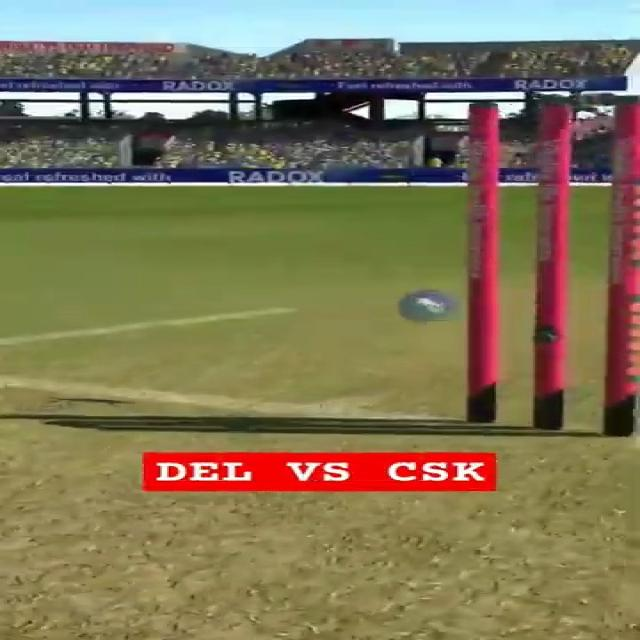ball: (395, 285, 457, 323)
